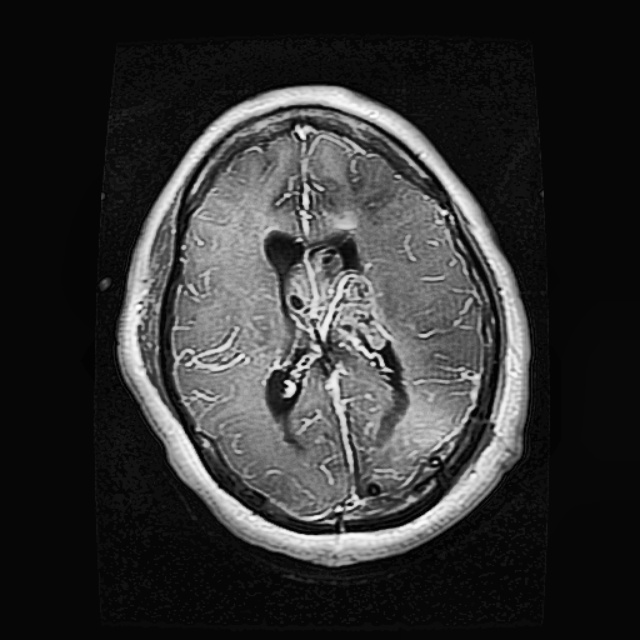Glioma: (285, 245, 392, 385)
